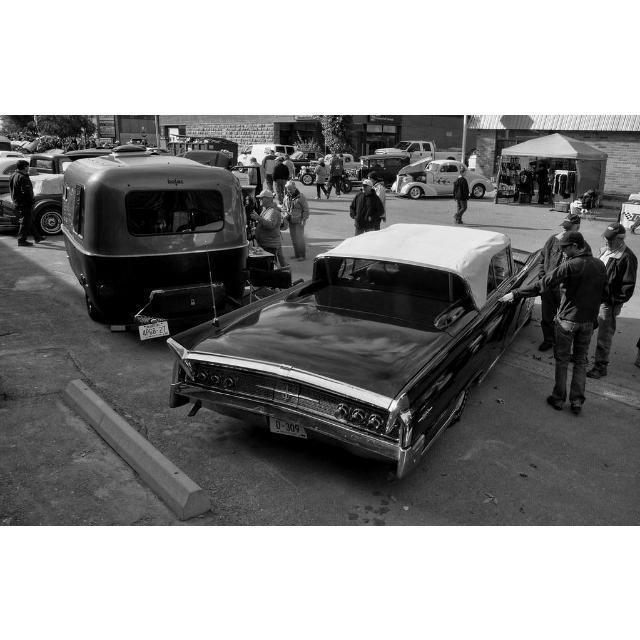boot-dent: (218, 304, 433, 391)
